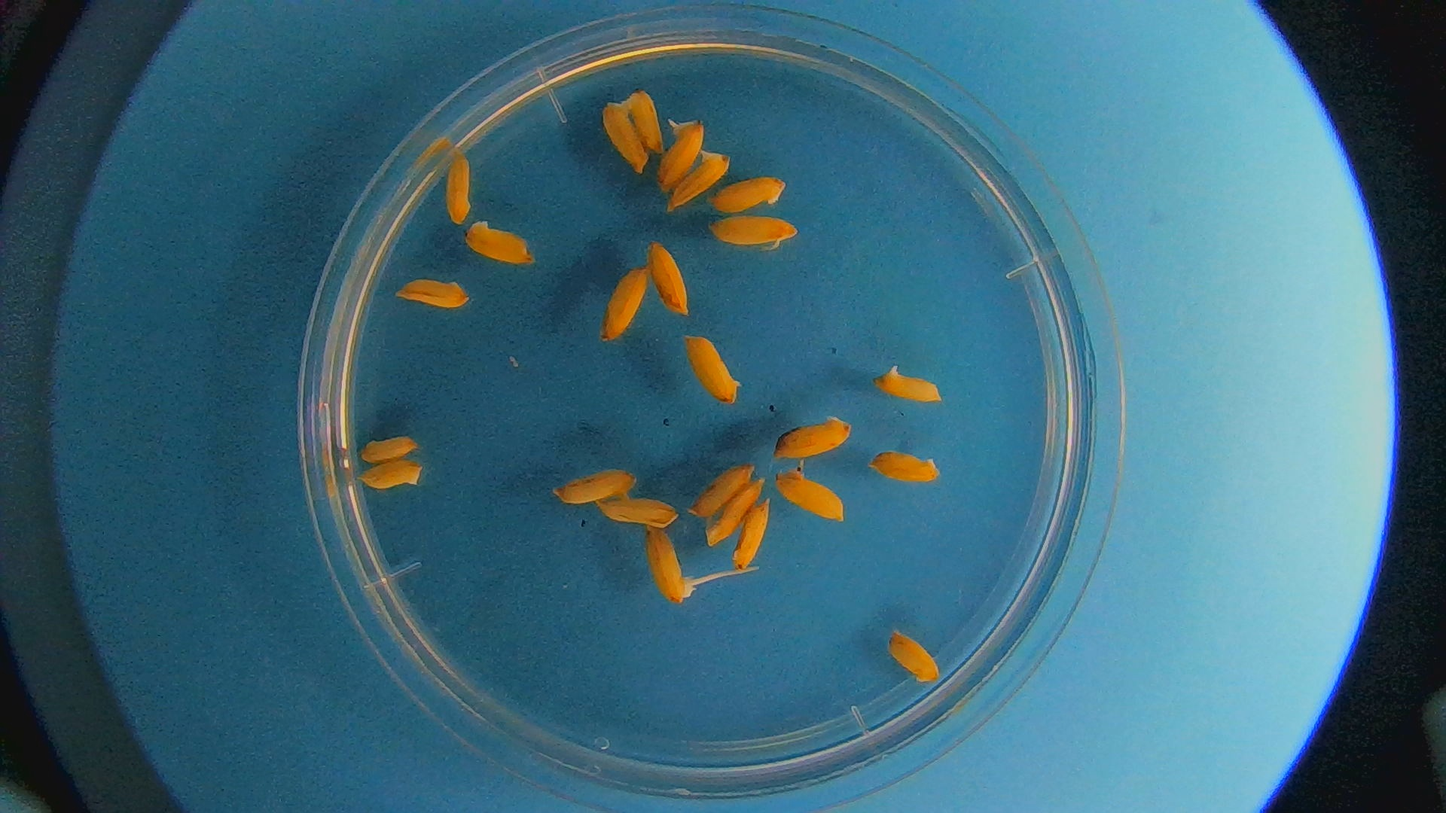no: (682, 331, 746, 406), (600, 265, 649, 344), (772, 413, 851, 459), (599, 102, 647, 177), (551, 464, 639, 504), (708, 213, 798, 251), (709, 172, 789, 214), (648, 240, 691, 314), (463, 221, 534, 265), (689, 464, 752, 513), (729, 496, 770, 566), (874, 363, 941, 405), (601, 495, 679, 531), (441, 150, 477, 227), (866, 447, 942, 483), (395, 277, 471, 313), (888, 631, 939, 682), (624, 91, 663, 153), (359, 461, 428, 495), (359, 433, 421, 462)
yes: (646, 524, 698, 601), (670, 147, 729, 214), (774, 472, 843, 523), (659, 118, 707, 190)
